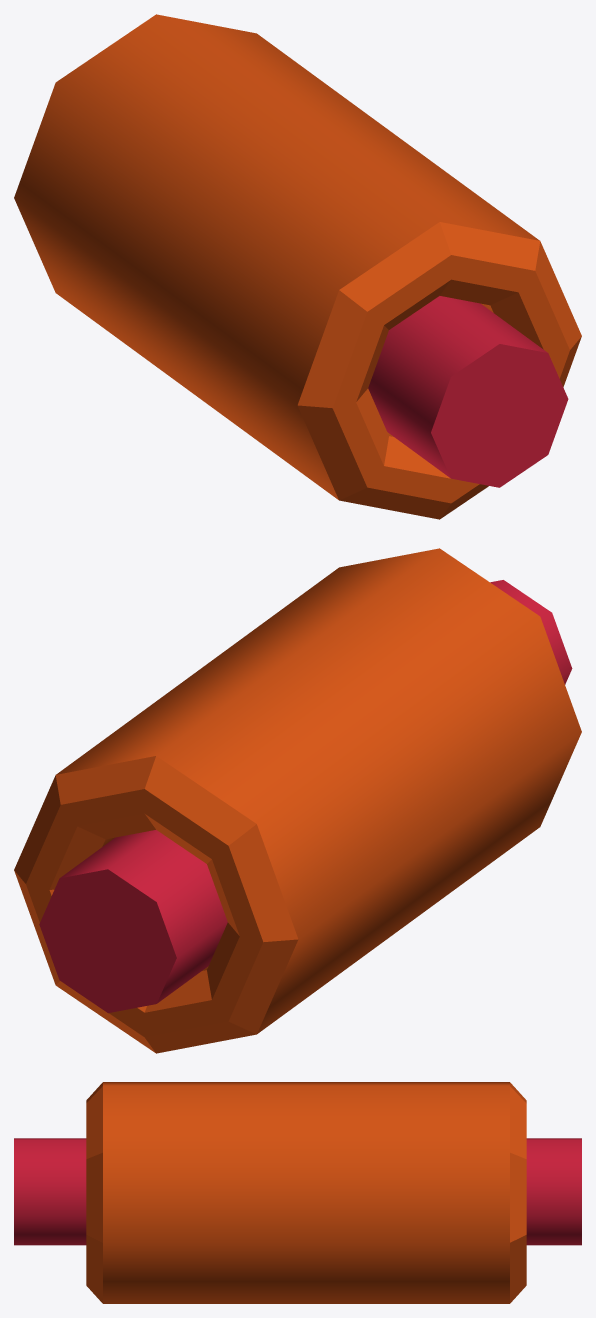
Rendered from Hotdog_prop.FBX.
3 renders of one model, top to bottom at view 1: azimuth 30°, elevation 25°; view 2: azimuth 150°, elevation 25°; view 3: azimuth 270°, elevation 25°, orthographic. The views are drawn at different scales.
Visible parts, largest first — view 1: Tube001; view 2: Tube001; view 3: Tube001.
Boxes of the visible parts, x1=… form: Tube001: x1=14, y1=14, x2=581, y2=519; Tube001: x1=14, y1=548, x2=581, y2=1053; Tube001: x1=14, y1=1082, x2=581, y2=1303.
Bounding box in the file's own units: 0.756 × 0.756 × 1.82.
